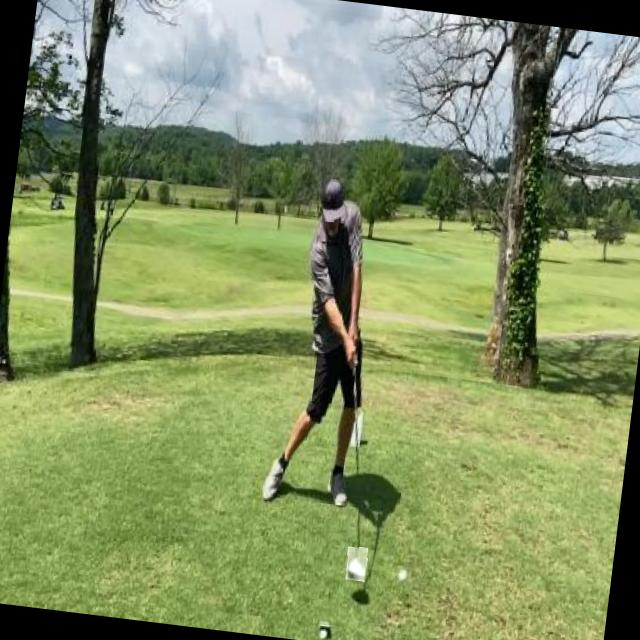club head: (344, 546, 368, 581)
